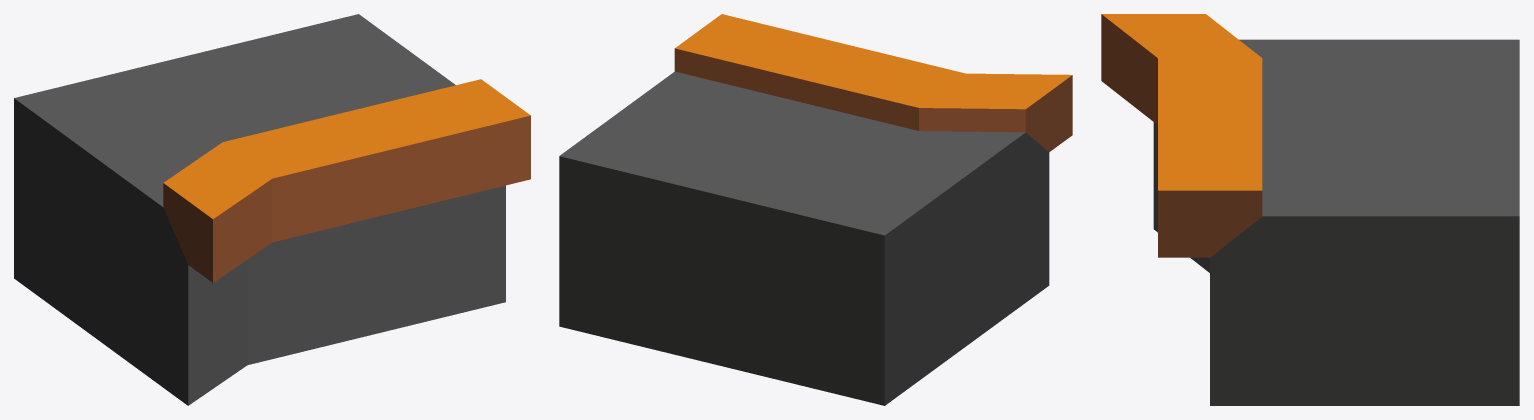
Rendered from COSMIC_F_Perimeter_1U_Convex_L.fbx.
The picture shows the model from 3 angles, left to right: view 1: azimuth 30°, elevation 25°; view 2: azimuth 150°, elevation 25°; view 3: azimuth 270°, elevation 25°; orthographic projection. The views are drawn at different scales.
Parts seen in each view (by area): view 1: COSMIC_F_Perimeter_1U_Convex_L; view 2: COSMIC_F_Perimeter_1U_Convex_L; view 3: COSMIC_F_Perimeter_1U_Convex_L.
Part boxes in pixels (box(x1,y1,x2,y2)): COSMIC_F_Perimeter_1U_Convex_L: box(14, 14, 530, 405); COSMIC_F_Perimeter_1U_Convex_L: box(559, 14, 1072, 405); COSMIC_F_Perimeter_1U_Convex_L: box(1101, 14, 1519, 405).
Size of the model in its own units: 0.5 by 0.2839 by 0.5.
